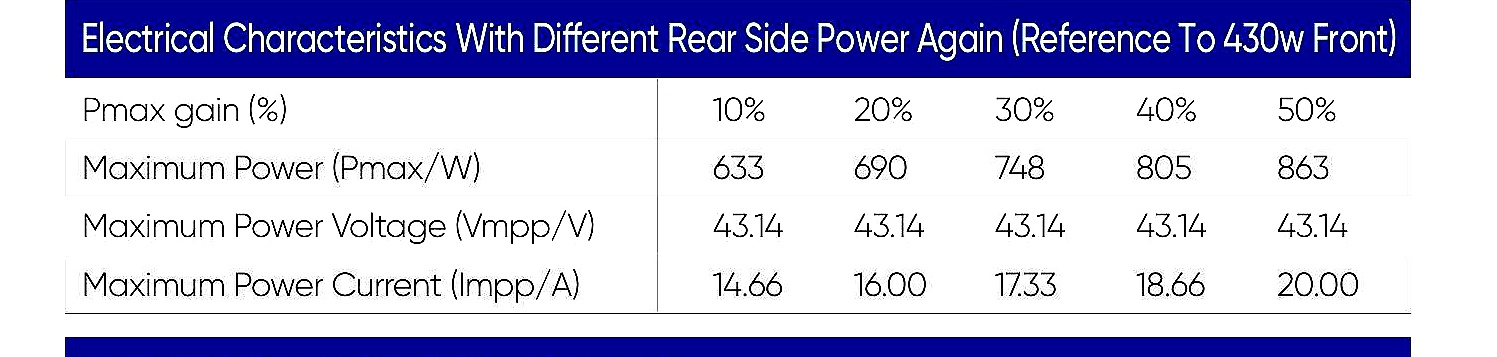table: (56, 1, 1424, 320)
table column: (66, 1, 658, 311), (1242, 4, 1403, 310), (657, 1, 811, 310), (1095, 2, 1241, 315), (812, 3, 959, 311), (962, 5, 1092, 308)
table name: (66, 2, 1406, 75)
table row: (64, 5, 1416, 72), (62, 80, 1415, 140), (60, 202, 1420, 256), (60, 146, 1417, 198), (62, 260, 1419, 311)
table row header: (65, 1, 661, 310)
table spanning cell: (63, 4, 1409, 77)
